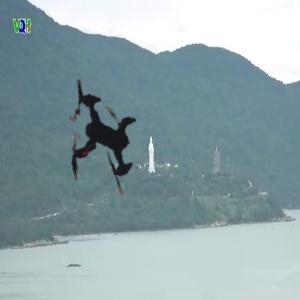drone: (14, 51, 188, 225)
